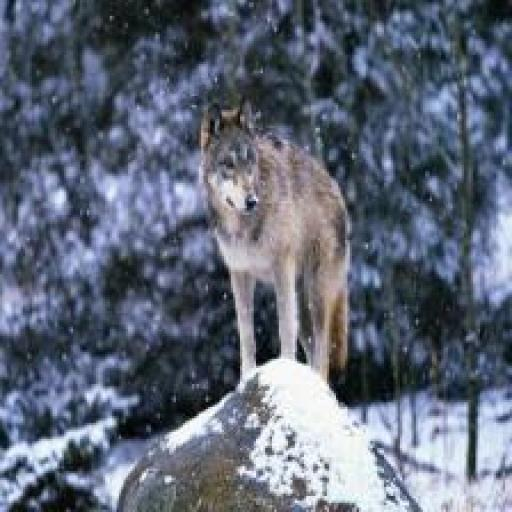wolf: (199, 98, 368, 413)
